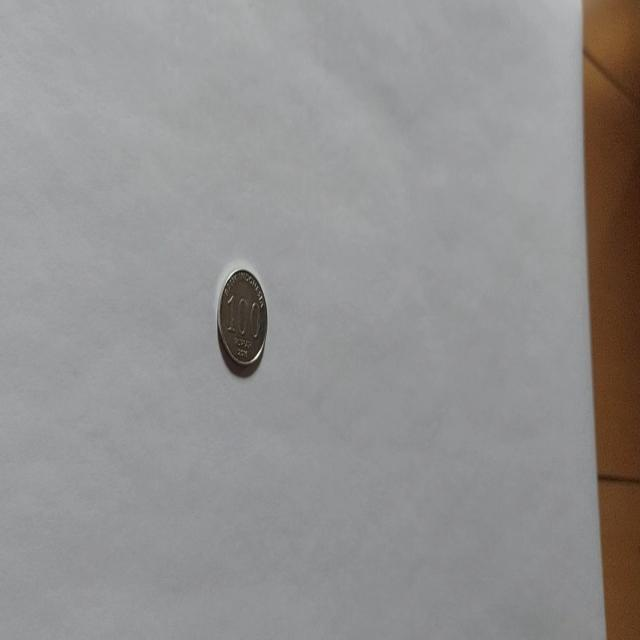seratus rupiah: (216, 266, 268, 370)
